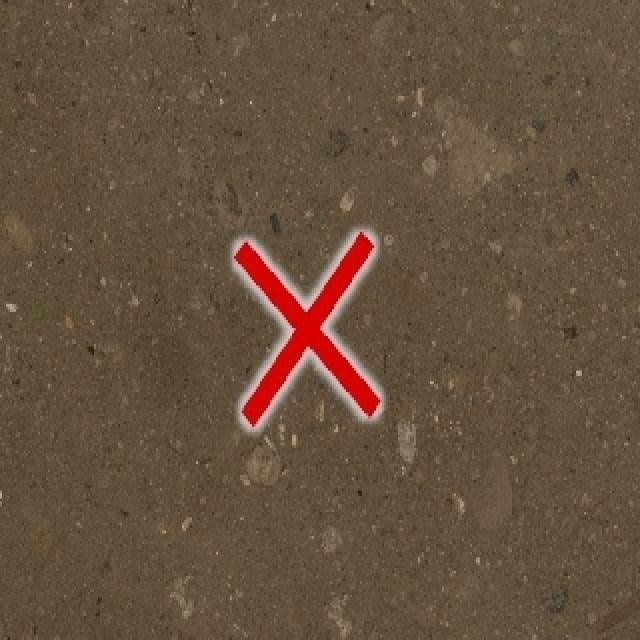x_marker: (235, 234, 379, 426)
